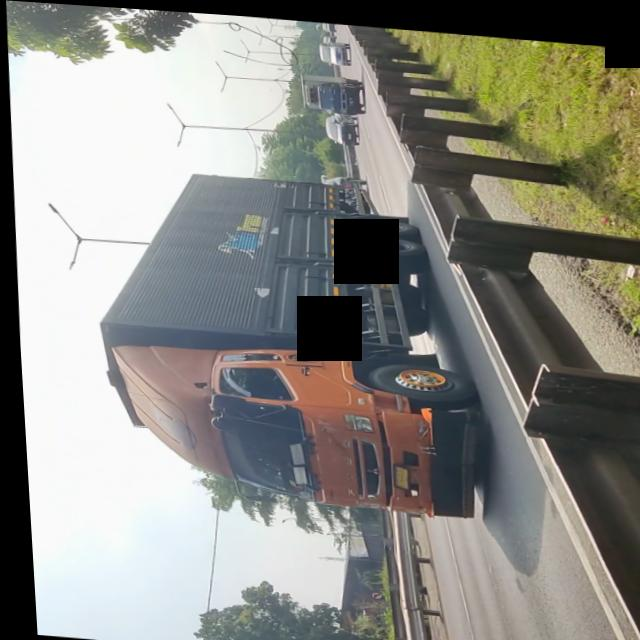Golongan III: (87, 163, 485, 518)
